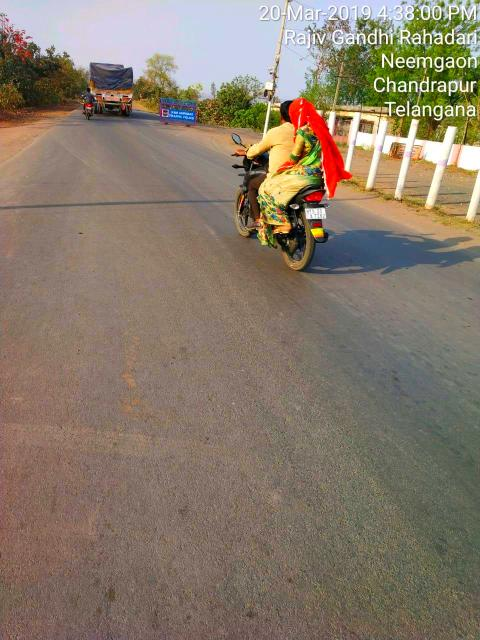motor: (233, 154, 329, 271)
non-helm: (290, 99, 314, 129), (281, 101, 293, 125)
